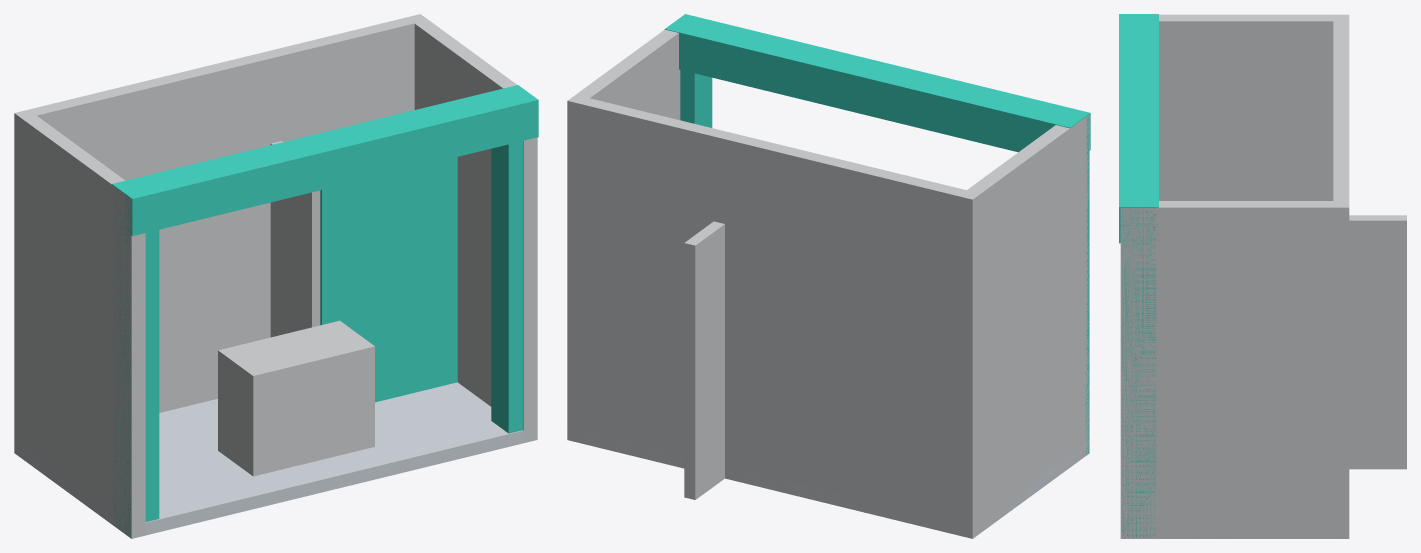
3 views of the same model, side by side, from view 1: azimuth 30°, elevation 25°; view 2: azimuth 150°, elevation 25°; view 3: azimuth 270°, elevation 25° (orthographic). The views are drawn at different scales.
Visible parts, largest first — view 1: Exhibition Booth Concept; view 2: Exhibition Booth Concept; view 3: Exhibition Booth Concept.
Boxes of the visible parts, x1,y1,x2,y2 form: Exhibition Booth Concept: (14,14,538,538); Exhibition Booth Concept: (567,14,1090,538); Exhibition Booth Concept: (1119,14,1406,538).
Size of the model in its own units: 4 by 3.2 by 2.52.
